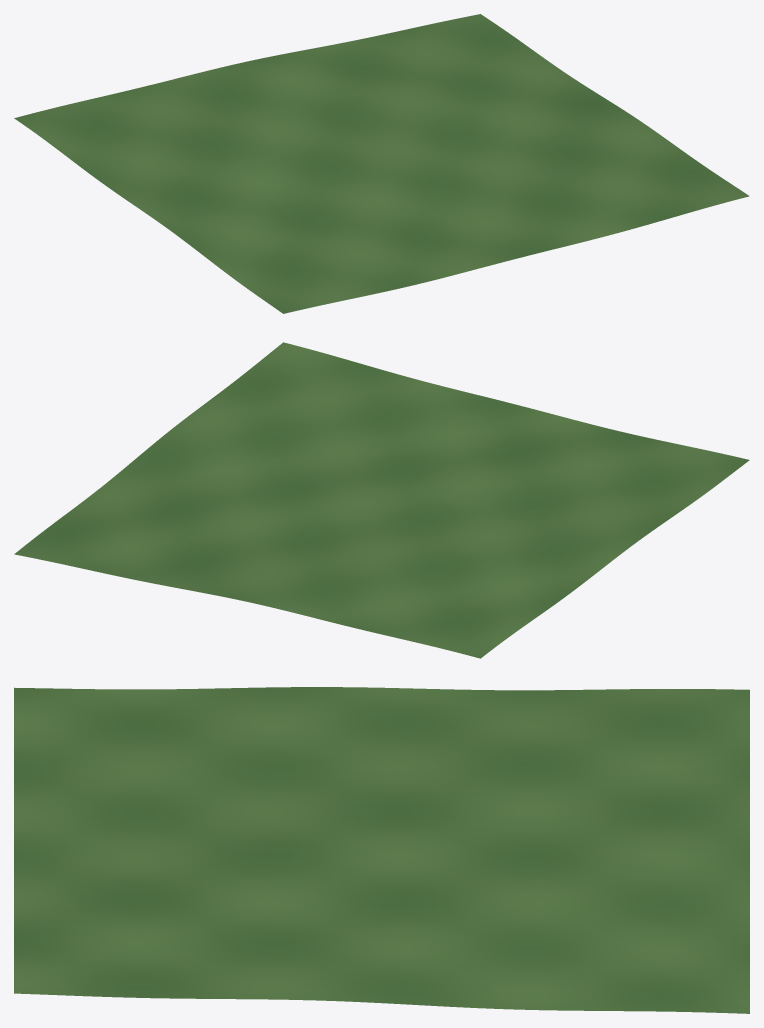
File: chunk_7_2.glb
3 views of the same model, one above another, from view 1: azimuth 30°, elevation 25°; view 2: azimuth 150°, elevation 25°; view 3: azimuth 270°, elevation 25° (orthographic). The views are drawn at different scales.
Size of the model in its own units: 512 by 15.64 by 512.
